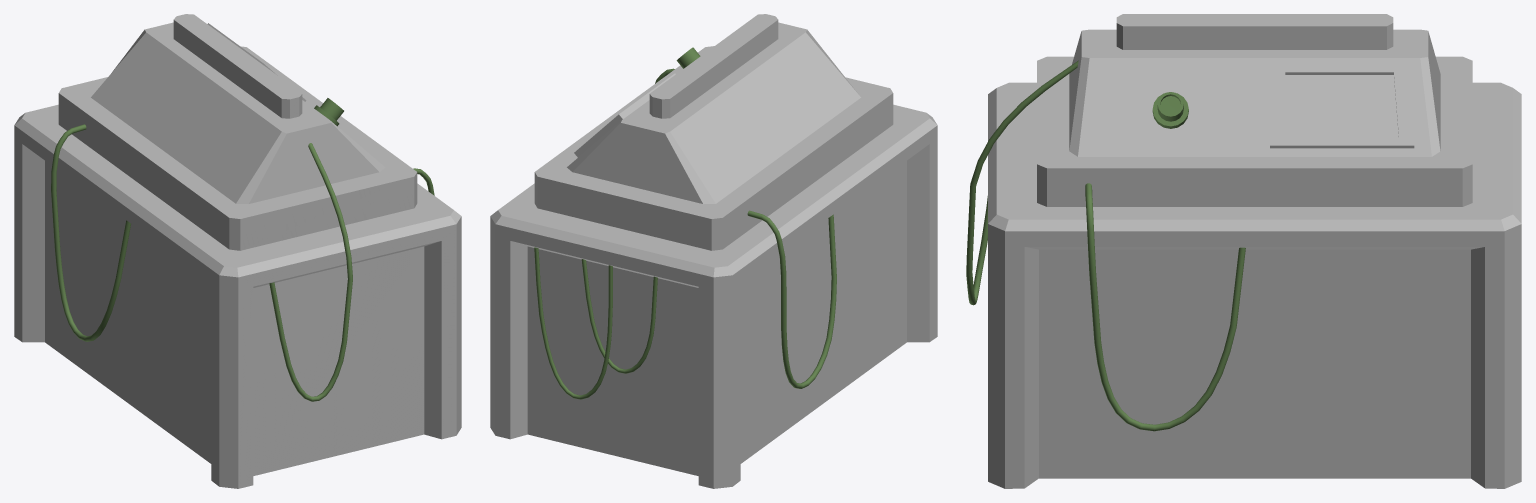
Rendered from Hologram Terminal.fbx.
The picture shows the model from 3 angles, left to right: view 1: azimuth 30°, elevation 25°; view 2: azimuth 150°, elevation 25°; view 3: azimuth 270°, elevation 25°; orthographic projection. The views are drawn at different scales.
Parts seen in each view (by area): view 1: Hologram_Terminal; view 2: Hologram_Terminal; view 3: Hologram_Terminal.
Boxes of the visible parts, left/top/right/bottom form: Hologram_Terminal: left=14, top=14, right=461, bottom=488; Hologram_Terminal: left=490, top=14, right=937, bottom=488; Hologram_Terminal: left=966, top=14, right=1521, bottom=488.
Size of the model in its own units: 2.85 by 3.4 by 4.32.
